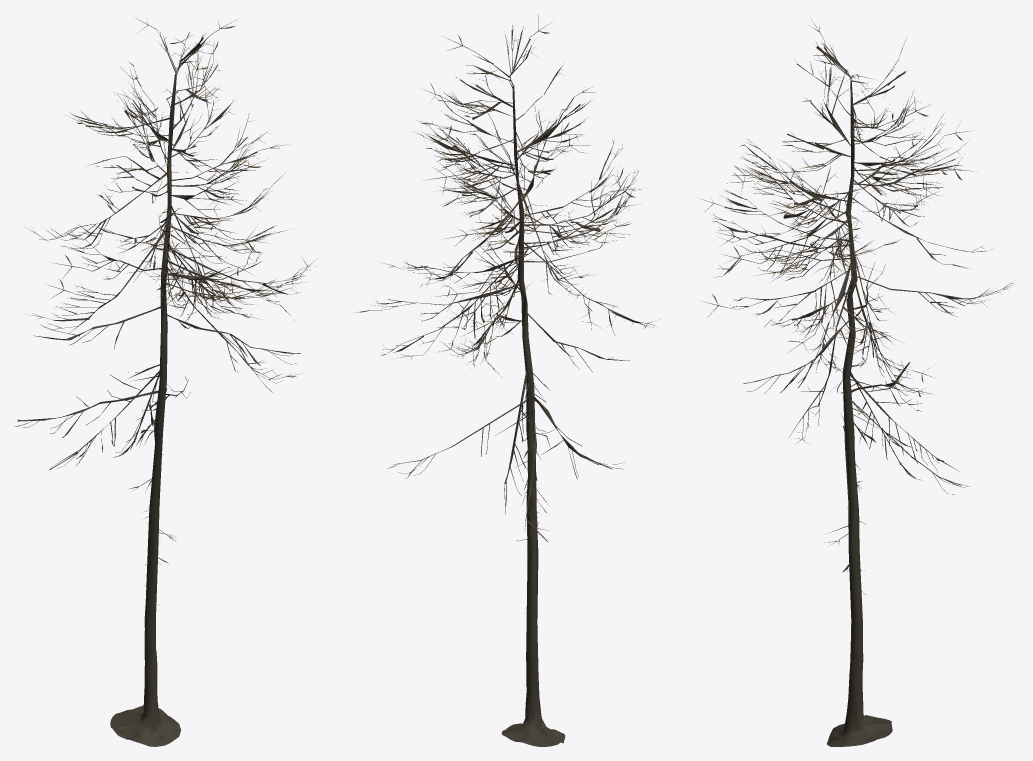
File: fir.glb
3 views of the same model, side by side, from view 1: azimuth 30°, elevation 25°; view 2: azimuth 150°, elevation 25°; view 3: azimuth 270°, elevation 25° (orthographic). The views are drawn at different scales.
Parts seen in each view (by area): view 1: fir_tree_01_c_LOD0 baked; view 2: fir_tree_01_c_LOD0 baked; view 3: fir_tree_01_c_LOD0 baked.
Part boxes in pixels (left/top/right/bottom): fir_tree_01_c_LOD0 baked: left=14, top=18, right=317, bottom=746; fir_tree_01_c_LOD0 baked: left=355, top=15, right=655, bottom=746; fir_tree_01_c_LOD0 baked: left=701, top=19, right=1012, bottom=746.
Size of the model in its own units: 6.23 by 14.47 by 5.86.
Materials: 4 (4 with a texture image).
